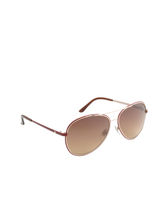glasses: (16, 91, 154, 156)
